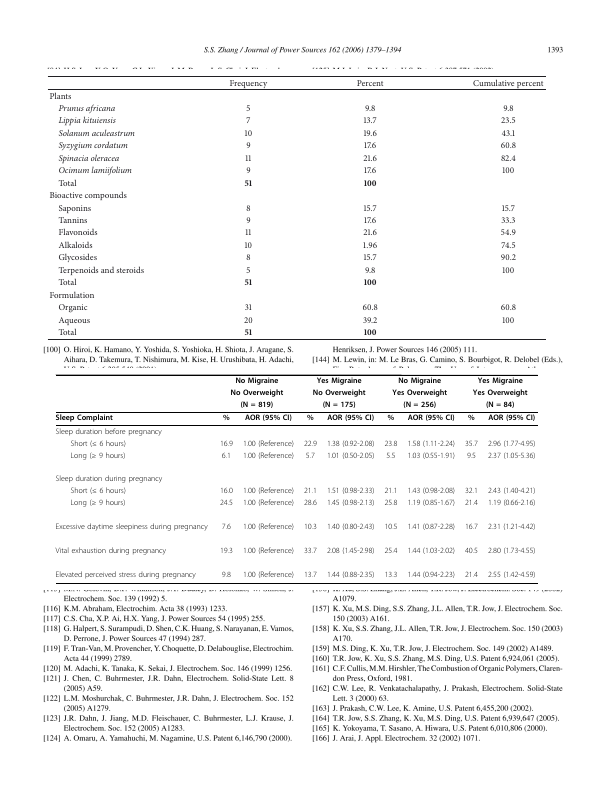borderless: (46, 74, 546, 339), (55, 373, 538, 583)
cell: (55, 523, 209, 532), (55, 571, 197, 580), (55, 427, 163, 437), (55, 475, 163, 485), (55, 547, 167, 556), (57, 265, 145, 276), (48, 190, 128, 201), (57, 128, 136, 139), (57, 165, 133, 176), (472, 78, 545, 89), (57, 141, 129, 151), (57, 153, 120, 164), (57, 103, 116, 114), (57, 116, 117, 126), (69, 439, 127, 449), (69, 487, 127, 497), (69, 451, 126, 461), (69, 499, 126, 509), (55, 414, 114, 423), (242, 439, 295, 449), (242, 451, 295, 461), (242, 487, 295, 497), (242, 499, 295, 509), (48, 290, 95, 301), (391, 389, 448, 398), (472, 389, 528, 398), (406, 439, 456, 449), (406, 451, 456, 461), (406, 487, 456, 497), (406, 499, 456, 509), (326, 439, 375, 449), (487, 439, 536, 449), (326, 451, 375, 461), (487, 451, 536, 461), (326, 487, 375, 497), (487, 487, 536, 497), (326, 499, 375, 509), (487, 499, 536, 509), (230, 389, 284, 398), (312, 389, 366, 398), (242, 523, 295, 532), (242, 547, 295, 556), (242, 571, 295, 580), (406, 523, 456, 532), (406, 547, 456, 556), (406, 571, 456, 580), (244, 414, 293, 423), (326, 414, 375, 423), (487, 414, 536, 423), (326, 523, 375, 532), (487, 523, 536, 532), (326, 547, 375, 556), (487, 547, 536, 556), (326, 571, 375, 580), (487, 571, 536, 580), (407, 414, 455, 423), (229, 78, 268, 89), (316, 377, 363, 386), (477, 377, 524, 386), (57, 228, 99, 238), (57, 253, 98, 263), (57, 240, 94, 251), (234, 377, 279, 386), (397, 377, 442, 386), (57, 315, 91, 326), (57, 302, 89, 313), (57, 203, 92, 213), (57, 215, 88, 226), (356, 78, 385, 89), (239, 401, 274, 410), (402, 401, 437, 410), (322, 401, 356, 410), (485, 401, 515, 410), (48, 91, 72, 101), (57, 178, 78, 189), (57, 327, 78, 338), (57, 278, 78, 288), (500, 153, 517, 164), (500, 240, 517, 251), (362, 302, 379, 313), (500, 302, 517, 313), (362, 128, 378, 139), (362, 153, 378, 164), (500, 215, 516, 226), (362, 240, 378, 251), (362, 315, 378, 326), (500, 116, 517, 126), (500, 141, 517, 151), (500, 228, 517, 238), (500, 253, 517, 263), (501, 128, 516, 139), (362, 228, 378, 238), (363, 165, 377, 176), (501, 165, 515, 176), (363, 215, 377, 226), (501, 265, 515, 276), (501, 315, 515, 326), (363, 116, 378, 126), (363, 203, 378, 213), (501, 203, 516, 213), (363, 253, 378, 263), (219, 439, 234, 449), (303, 439, 318, 449), (383, 439, 398, 449), (464, 439, 479, 449), (219, 487, 234, 497), (303, 487, 318, 497), (383, 487, 398, 497), (464, 487, 479, 497), (219, 499, 234, 509), (303, 499, 318, 509), (383, 499, 398, 509), (464, 499, 479, 509), (502, 103, 515, 114), (363, 141, 377, 151), (363, 327, 378, 336), (303, 523, 318, 532), (383, 523, 398, 532), (464, 523, 479, 532), (219, 547, 234, 556), (303, 547, 318, 556), (383, 547, 398, 556), (464, 547, 479, 556), (303, 571, 318, 580), (383, 571, 398, 580), (464, 571, 479, 580), (364, 103, 376, 114), (364, 265, 376, 276), (243, 315, 254, 326), (363, 178, 378, 186), (363, 278, 378, 286), (221, 451, 232, 461), (305, 451, 316, 461), (385, 451, 396, 461), (466, 451, 477, 461), (244, 128, 253, 139), (244, 240, 253, 251), (244, 302, 253, 313), (221, 523, 232, 532), (221, 571, 232, 580), (244, 153, 252, 164), (244, 327, 253, 336), (222, 414, 231, 423), (306, 414, 315, 423), (386, 414, 395, 423), (467, 414, 476, 423), (244, 228, 252, 238), (245, 165, 252, 176), (245, 215, 252, 226), (244, 178, 253, 186), (244, 278, 253, 286), (245, 141, 252, 151), (245, 203, 252, 213), (245, 253, 252, 263), (245, 103, 251, 114), (245, 265, 251, 276), (245, 116, 251, 126)
